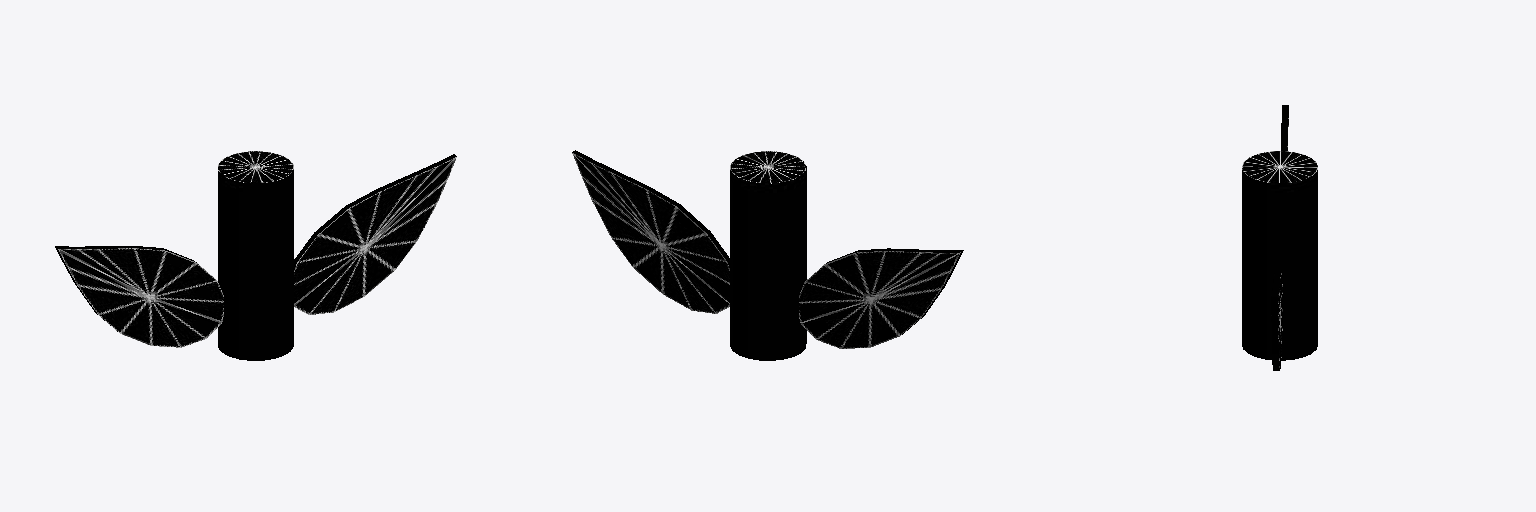
3 views of the same model, side by side, from view 1: azimuth 30°, elevation 25°; view 2: azimuth 150°, elevation 25°; view 3: azimuth 270°, elevation 25° (orthographic).
Visible parts, largest first — view 1: polySurface78; view 2: polySurface78; view 3: polySurface78.
Part boxes in pixels (x1,y1,x2,y2): polySurface78: (55, 151, 456, 360); polySurface78: (572, 150, 963, 360); polySurface78: (1242, 105, 1317, 370).
Size of the model in its own units: 1.56 by 0.6693 by 0.2629.
1 materials, 1 textured.